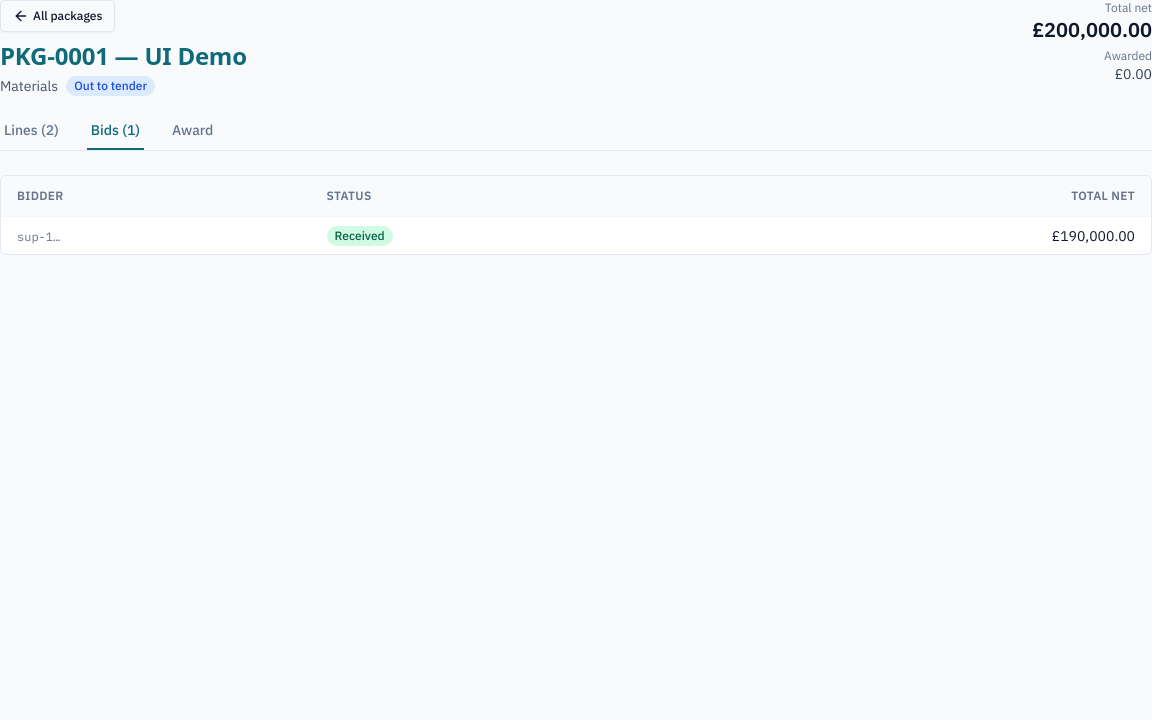
award form submit surfaces server 422 verbatim (no silent onError)
Click the button with test id "package-tab-award": (193, 135) [168,120,217,150]
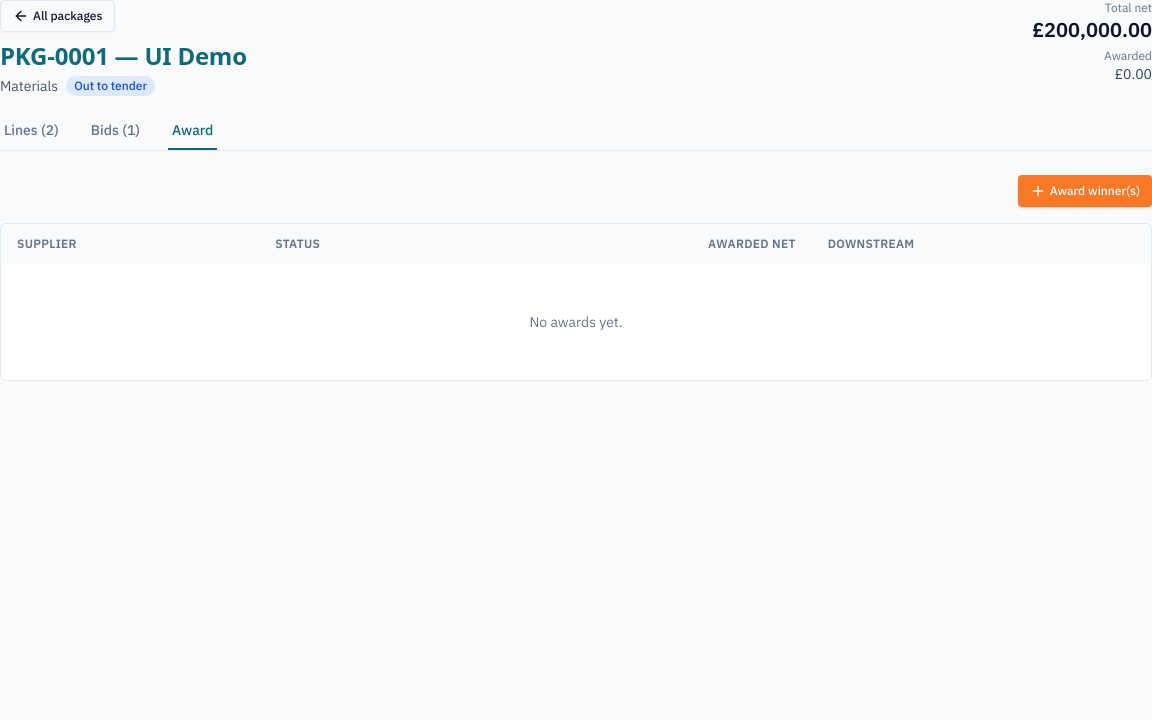
Click the button with test id "package-award-open": (1085, 191) [1018,175,1151,207]
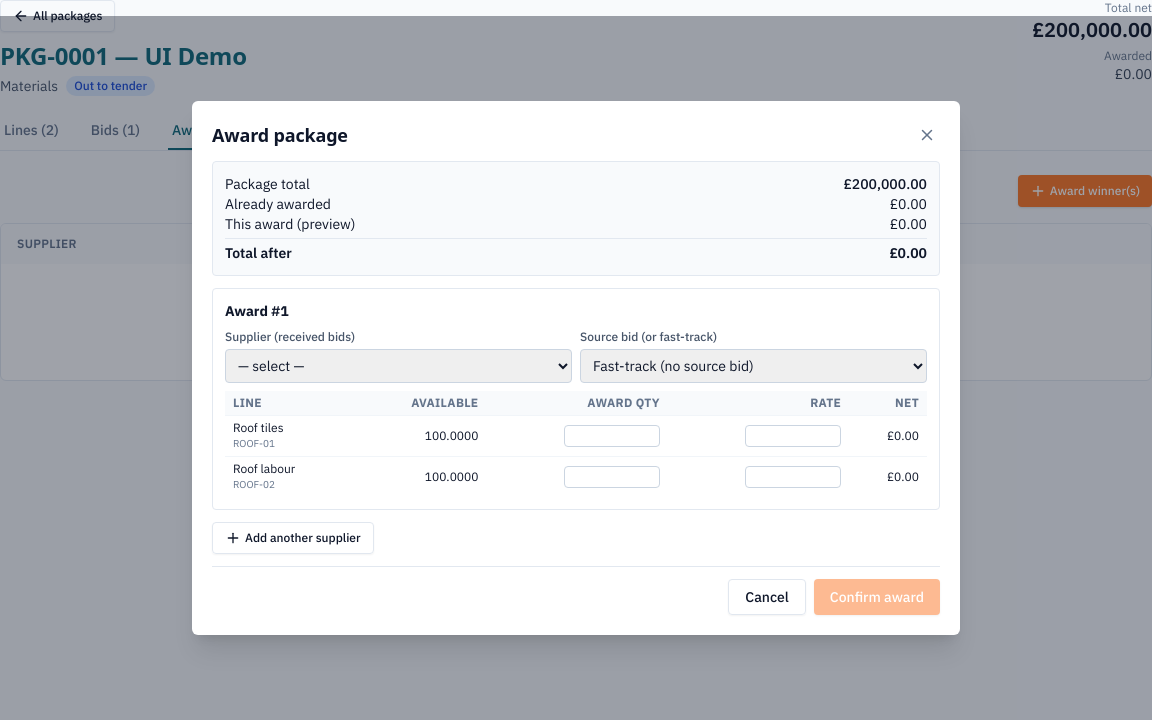
Expected: the dialog with test id "award-form-dialog" is shown
Select "sup-1… (£190,000.00)" in the dropdown with test id "award-spec-supplier-0": (398, 366) [225,349,572,383]
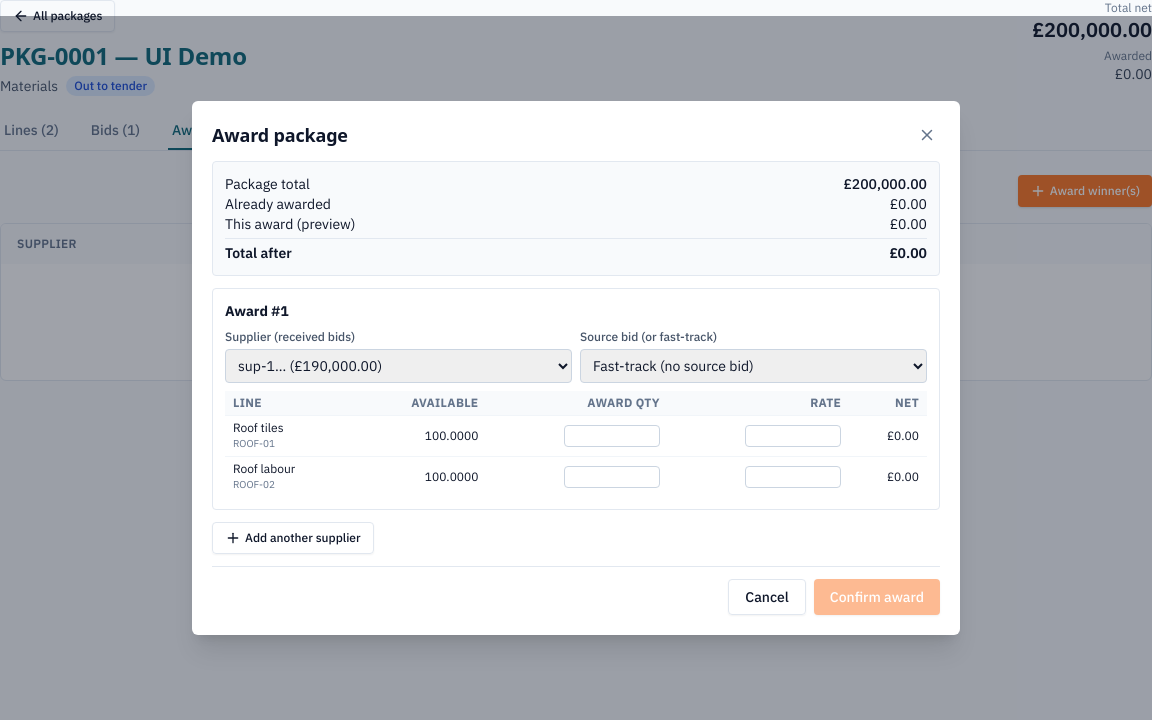
In the number field with test id "award-spec-0-qty-0": (612, 436) [564,425,660,447], type "50"
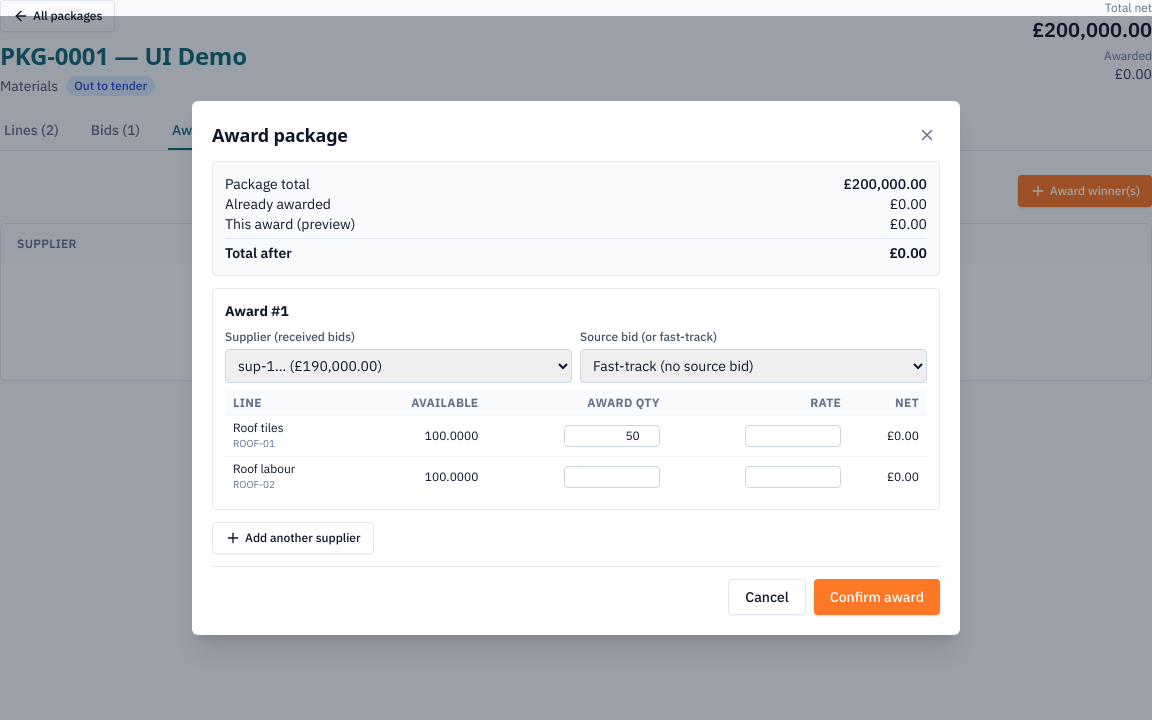
In the number field with test id "award-spec-0-rate-0": (793, 436) [745,425,841,447], type "950"
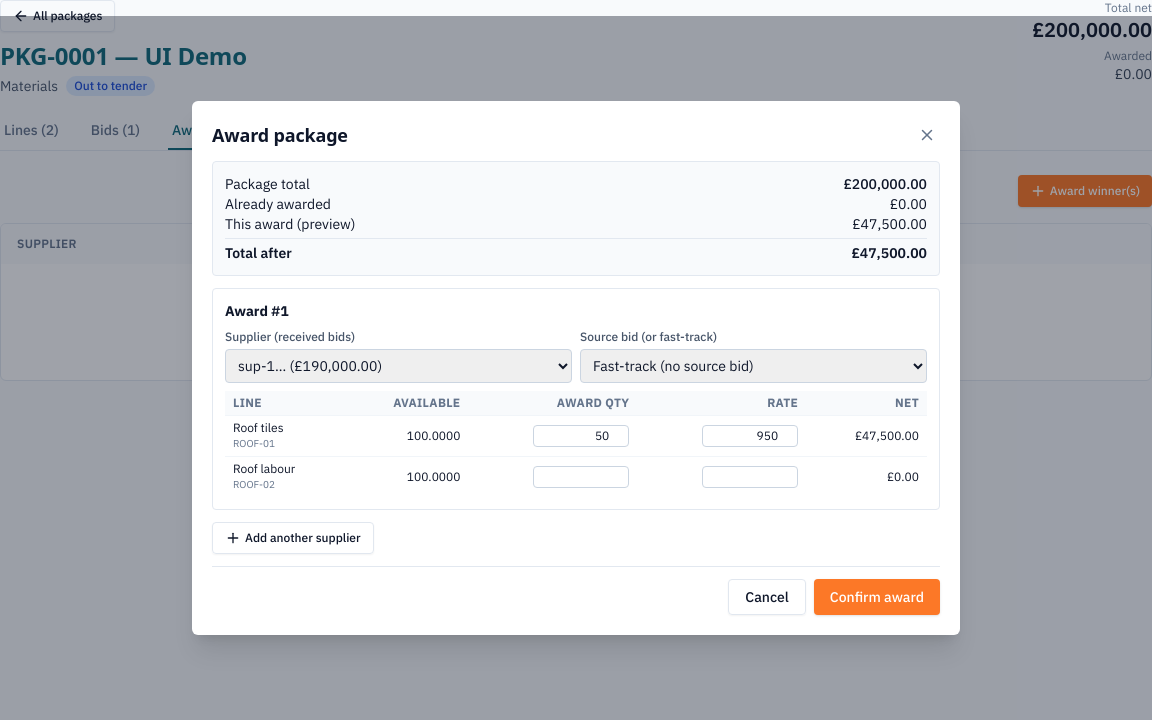
Expected: the button with test id "award-form-submit" is enabled
Click the button with test id "award-form-submit": (877, 597) [814,579,940,615]
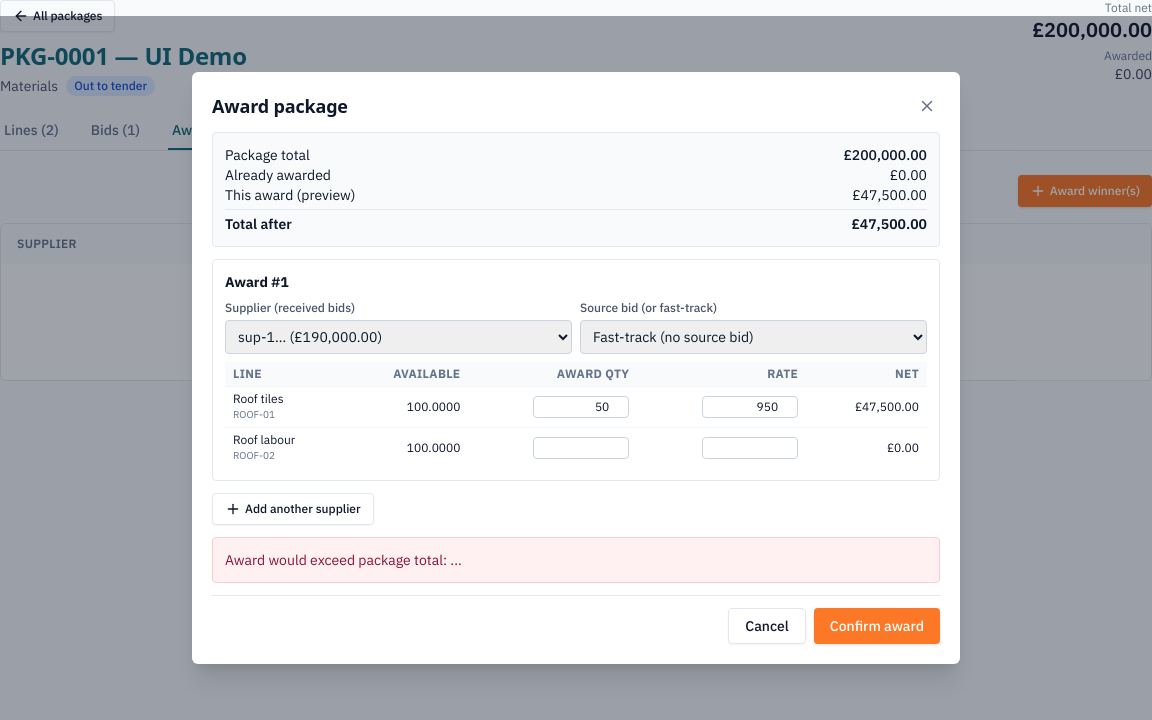
Expected: the message with test id "award-form-error" shows "exceed package total", [225,551,462,569]
